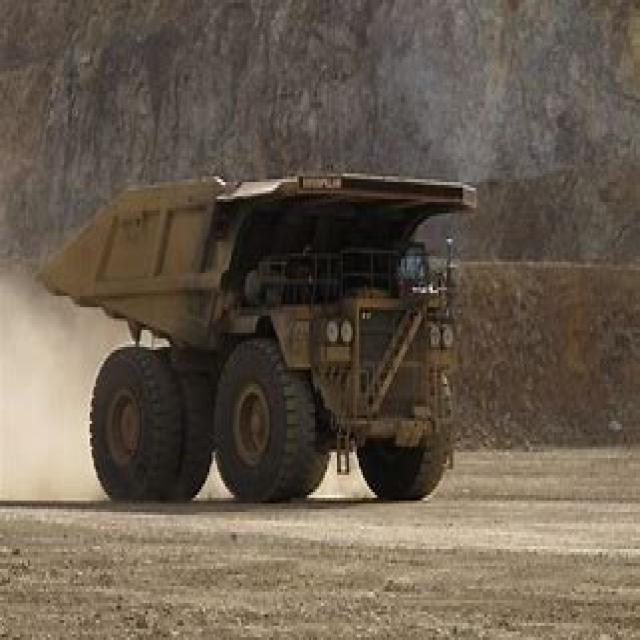dump_truck: (32, 154, 498, 526)
